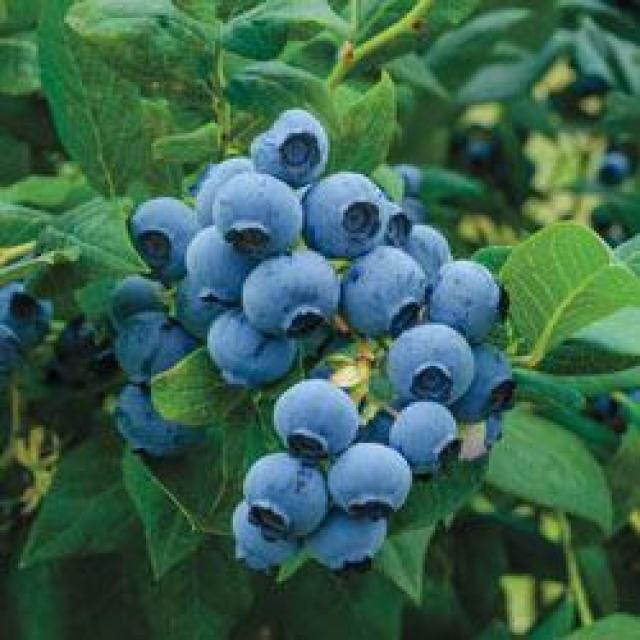BlueBerry - v1: (105, 371, 218, 469), (236, 246, 348, 340), (328, 246, 435, 343), (194, 308, 304, 400), (292, 161, 392, 259), (210, 169, 315, 259), (243, 445, 333, 548), (240, 102, 340, 194), (266, 379, 371, 463), (384, 320, 481, 410), (430, 251, 520, 345), (325, 438, 428, 520), (174, 215, 261, 312), (110, 305, 210, 384), (386, 397, 474, 484), (125, 192, 208, 282), (223, 499, 307, 586), (448, 343, 525, 430), (297, 504, 389, 574), (102, 269, 182, 330), (0, 272, 59, 354), (394, 213, 458, 279), (194, 154, 248, 225), (374, 184, 417, 251)
